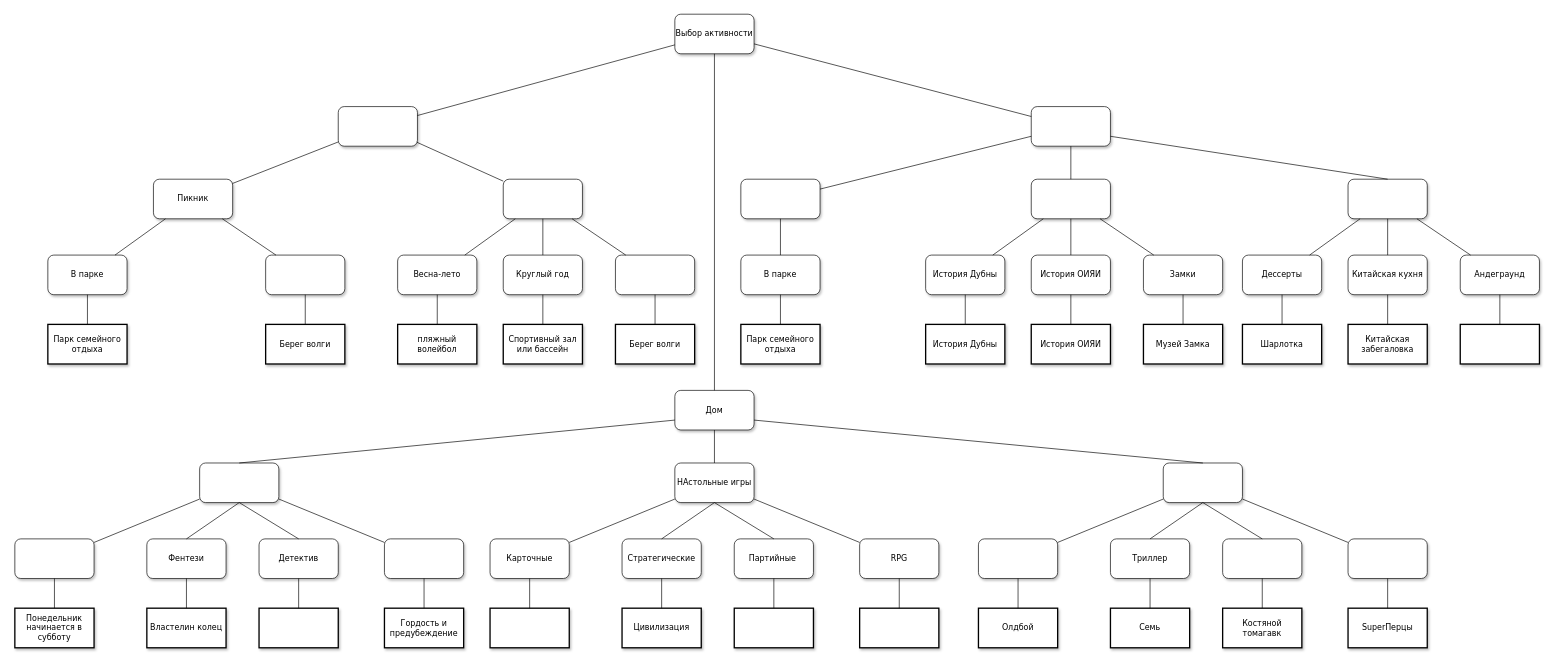
Image size: 1555x665. Some labels were removed from this diagram. The shapes that lost their labels are listed below. From the top down, each one's centre as x and y in pixels, then its label:
At point 378,127: "Природа".
At point 1071,127: "Город".
At point 543,199: "Спорт".
At point 781,199: "кино".
At point 1071,199: "Музей".
At point 1388,199: "Кафе".
At point 305,275: "На берег".
At point 655,275: "Зима".
At point 1500,345: "Али-баба".
At point 239,483: "Книга".
At point 1203,483: "Фильм".
At point 55,559: "Фантастика".
At point 424,559: "Романтика".
At point 1018,559: "Дрма".
At point 1262,559: "Ужасы".
At point 1388,559: "Комедия".
At point 299,629: "десять негритят".
At point 530,629: "Уно".
At point 774,629: "Имаджинариум".
At point 899,629: "DnD".
